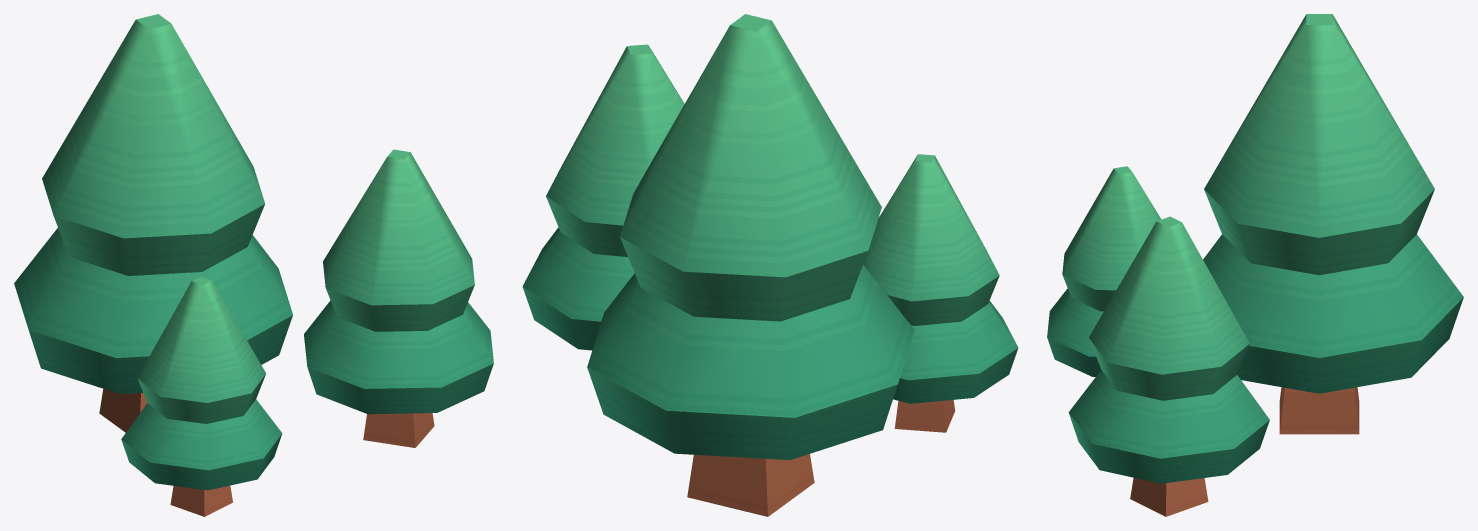
The model's file is grove.glb.
The picture shows the model from 3 angles, left to right: view 1: azimuth 30°, elevation 25°; view 2: azimuth 150°, elevation 25°; view 3: azimuth 270°, elevation 25°; orthographic projection. The views are drawn at different scales.
Parts seen in each view (by area): view 1: grove; view 2: grove; view 3: grove.
Boxes of the visible parts, x1,y1,x2,y2 form: grove: (14, 14, 493, 516); grove: (522, 14, 1018, 516); grove: (1047, 14, 1463, 516).
Size of the model in its own units: 0.7643 by 0.76 by 0.7216.
Materials: 3 (3 with a texture image).
